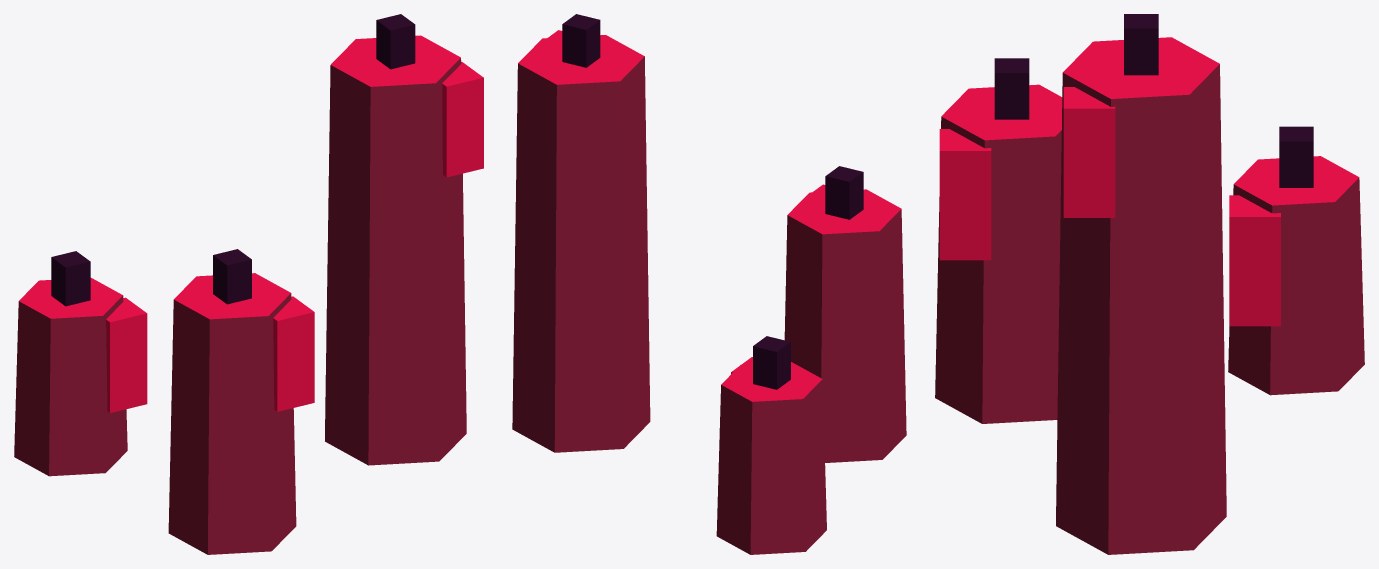
The model's file is candles4.glb.
The picture shows the model from 3 angles, left to right: view 1: azimuth 30°, elevation 25°; view 2: azimuth 150°, elevation 25°; view 3: azimuth 270°, elevation 25°; orthographic projection. The views are drawn at different scales.
Visible parts, largest first — view 1: Candles4; view 2: Candles4; view 3: Candles4.
Part boxes in pixels (box(x1,y1,x2,y2)): Candles4: box(14, 14, 483, 554); Candles4: box(512, 14, 906, 554); Candles4: box(935, 14, 1364, 554).
Bounding box in the file's own units: 0.5863 × 0.64 × 0.4985.
